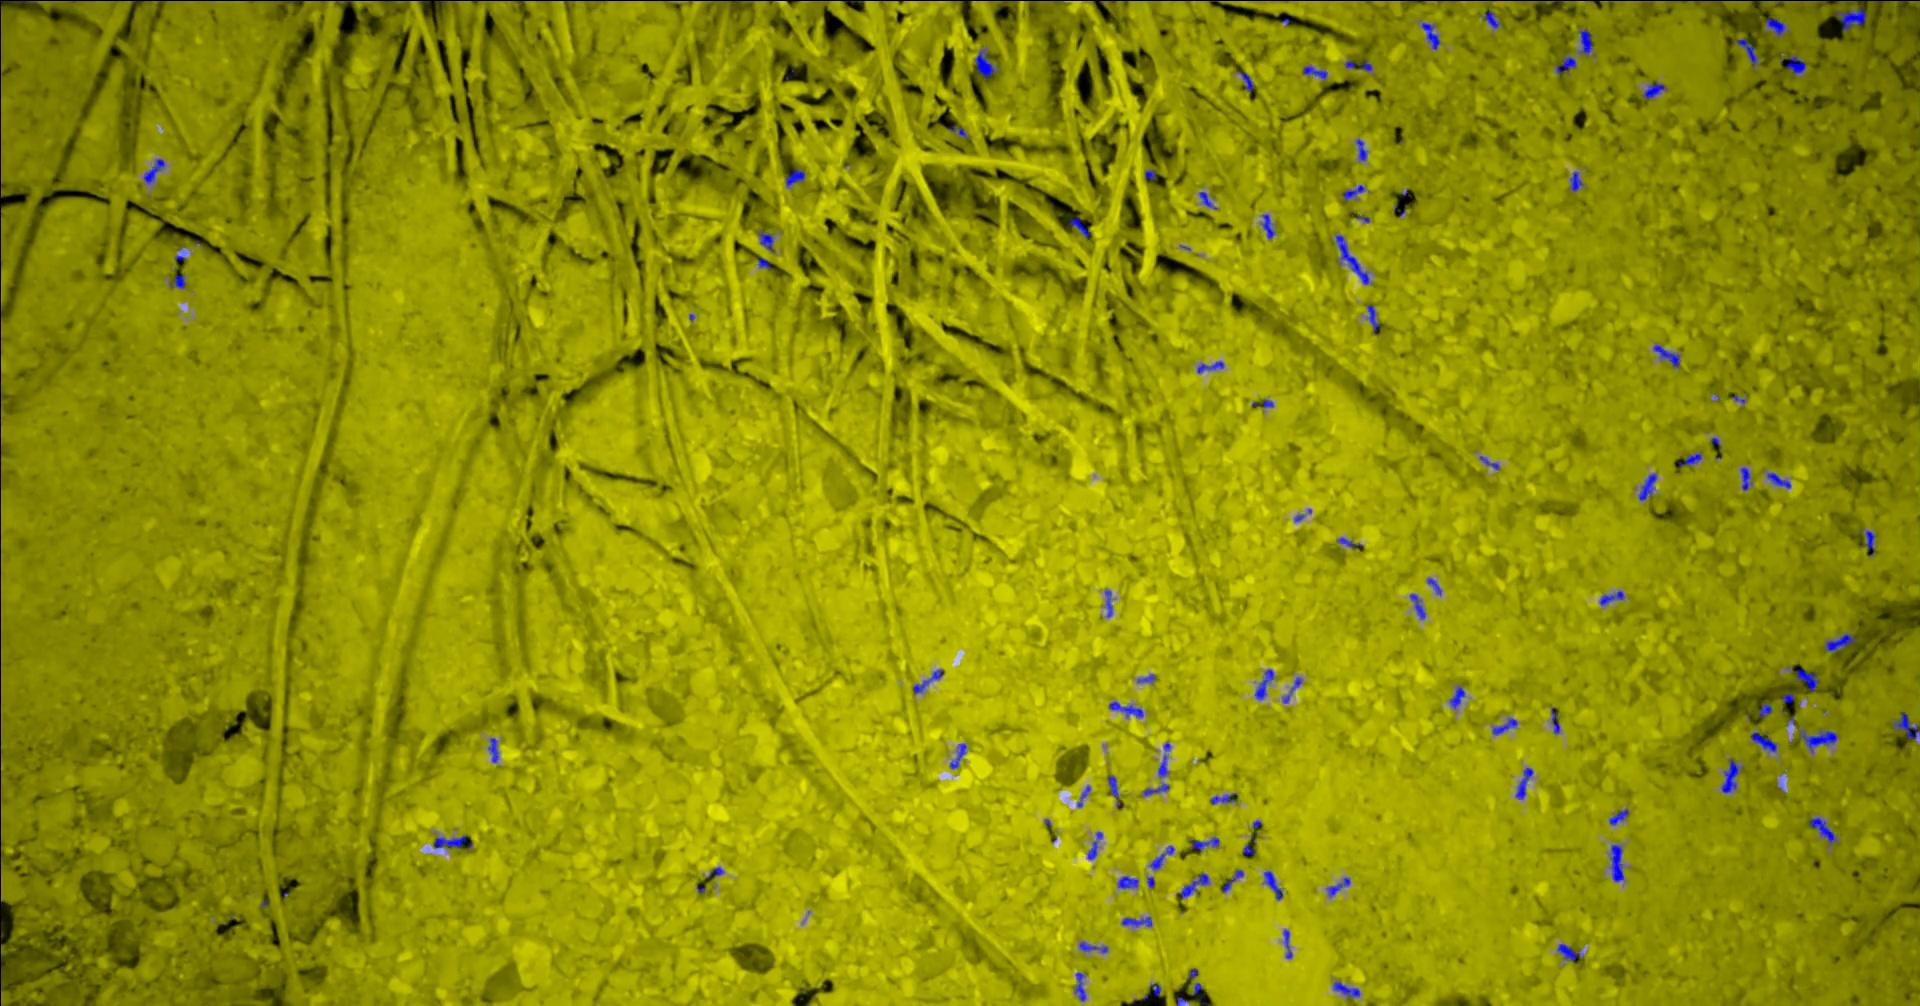ant: (1335, 234, 1369, 285), (1799, 729, 1837, 752), (1176, 873, 1208, 898), (1719, 760, 1742, 793), (1891, 713, 1919, 739), (1808, 815, 1836, 842), (1788, 666, 1818, 690), (912, 669, 942, 694), (974, 50, 999, 77), (1835, 8, 1865, 30), (1823, 633, 1857, 652), (1149, 845, 1175, 869), (1652, 344, 1679, 367), (1735, 38, 1757, 64), (1515, 767, 1533, 799), (1263, 870, 1283, 899), (1750, 730, 1777, 751), (1109, 701, 1143, 716), (1255, 669, 1272, 699), (143, 158, 164, 183), (1283, 676, 1302, 702), (1421, 22, 1439, 50), (1638, 473, 1656, 500), (1556, 942, 1583, 960), (1222, 869, 1243, 892), (1780, 55, 1804, 75), (1610, 843, 1623, 882), (1067, 217, 1090, 238), (433, 835, 466, 848), (1326, 876, 1350, 895), (1157, 742, 1170, 777), (949, 743, 966, 768), (1189, 836, 1218, 851), (1491, 718, 1517, 734), (1332, 981, 1359, 997), (1764, 17, 1785, 37), (1087, 831, 1102, 859), (1860, 528, 1876, 555), (1599, 589, 1624, 605), (1410, 593, 1425, 619), (1642, 83, 1665, 99), (1341, 184, 1364, 201), (1196, 359, 1223, 373), (1260, 213, 1275, 238), (1766, 473, 1790, 488), (1556, 56, 1575, 75), (785, 168, 804, 187), (1197, 191, 1217, 210), (1107, 775, 1119, 807), (1608, 808, 1628, 826), (1578, 29, 1592, 55), (1302, 65, 1327, 79), (1366, 304, 1378, 334), (1449, 685, 1464, 708), (1143, 782, 1170, 795), (1677, 452, 1702, 466), (1237, 71, 1253, 91), (758, 230, 773, 251), (1482, 9, 1498, 28), (1738, 466, 1751, 490), (1210, 793, 1237, 804), (1121, 916, 1150, 926), (1074, 972, 1084, 1001), (1343, 60, 1371, 70), (1079, 941, 1107, 951), (1355, 138, 1368, 160), (1426, 577, 1441, 594), (949, 124, 968, 138), (1570, 171, 1583, 191), (1283, 929, 1291, 958), (1337, 537, 1363, 547), (488, 737, 498, 762), (1103, 589, 1112, 617), (1117, 876, 1138, 888), (169, 274, 185, 288), (1550, 708, 1559, 733), (706, 866, 723, 879), (1757, 702, 1771, 716), (757, 257, 771, 269), (1251, 399, 1272, 406), (1780, 692, 1794, 702), (1835, 0, 1890, 1)
